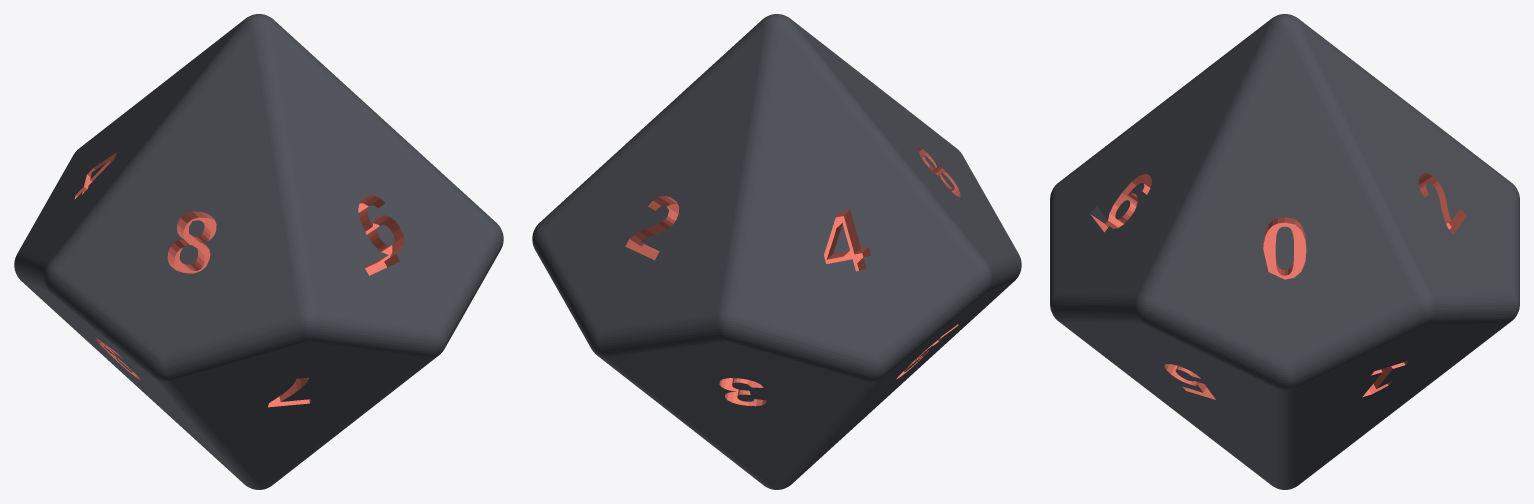
3 views of the same model, side by side, from view 1: azimuth 30°, elevation 25°; view 2: azimuth 150°, elevation 25°; view 3: azimuth 270°, elevation 25° (orthographic).
Parts seen in each view (by area): view 1: d10; view 2: d10; view 3: d10.
Boxes of the visible parts, bbox=[...] form: d10: bbox=[14, 14, 503, 489]; d10: bbox=[532, 14, 1021, 489]; d10: bbox=[1050, 14, 1519, 489].
Bounding box in the file's own units: 22.31 × 23.61 × 21.32.
